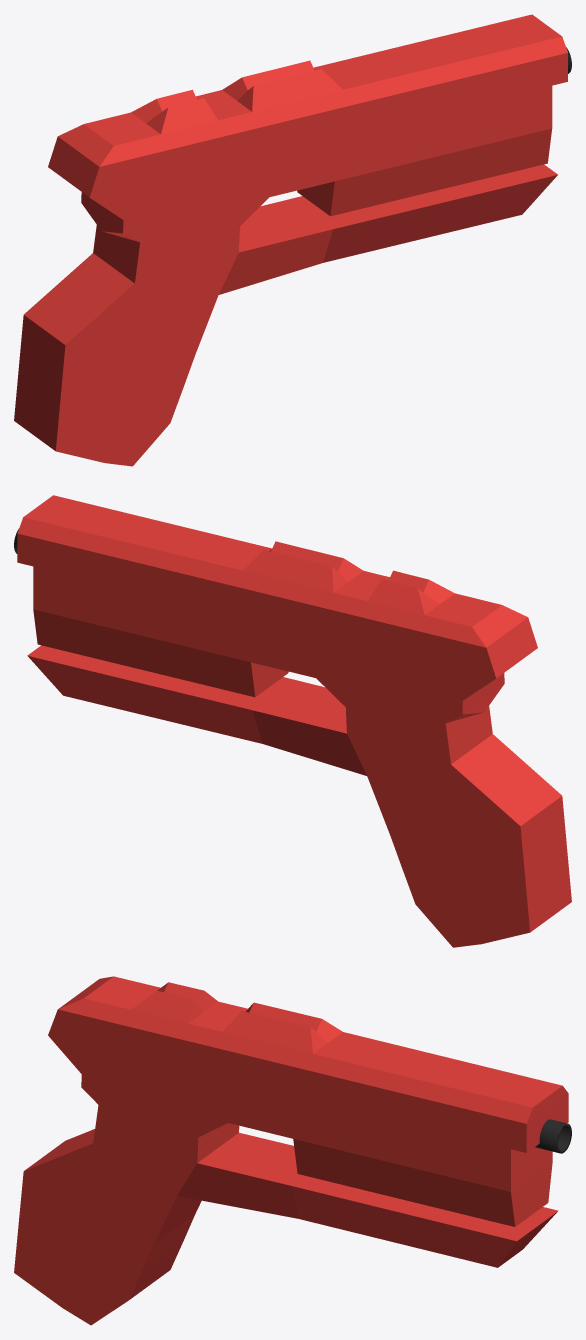
The model's file is Gun.fbx.
3 renders of one model, top to bottom at view 1: azimuth 30°, elevation 25°; view 2: azimuth 150°, elevation 25°; view 3: azimuth 330°, elevation 25°, orthographic.
Visible parts, largest first — view 1: Cube.001; view 2: Cube.001; view 3: Cube.001, Cylinder.003.
Boxes of the visible parts, bbox=[...] form: Cube.001: bbox=[14, 14, 567, 466]; Cube.001: bbox=[17, 495, 571, 947]; Cube.001: bbox=[14, 976, 568, 1325]; Cylinder.003: bbox=[535, 1119, 571, 1153].
Size of the model in its own units: 19.77 by 12.02 by 2.7.
